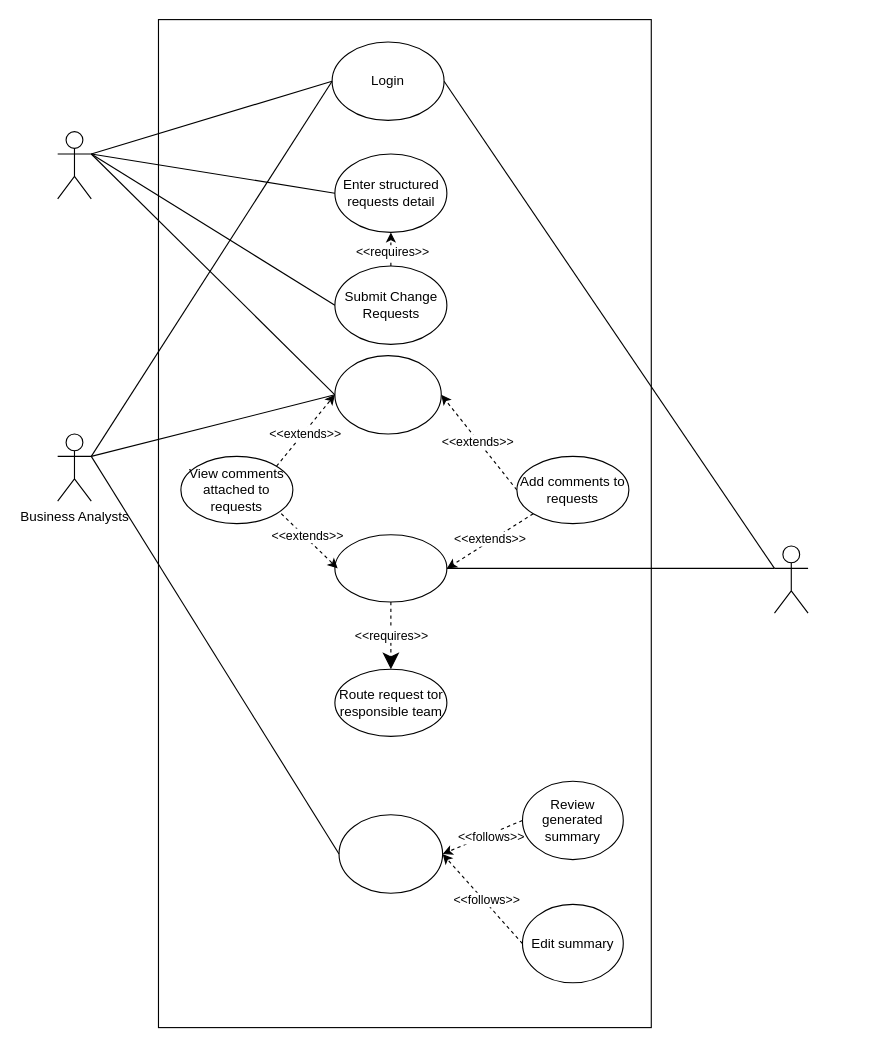
The diagram is 889 pixels wide and 1047 high, and some of its shapes have lost their labels. Each missing label, with the centre of its shape:
"Generate requests summary" goes at point 390,853.
"Request Submitter" goes at point 74,164.
"Technical Team/Developer" goes at point 790,579.
"View assigned requests" goes at point 390,568.
"View Change requests" goes at point 387,394.
